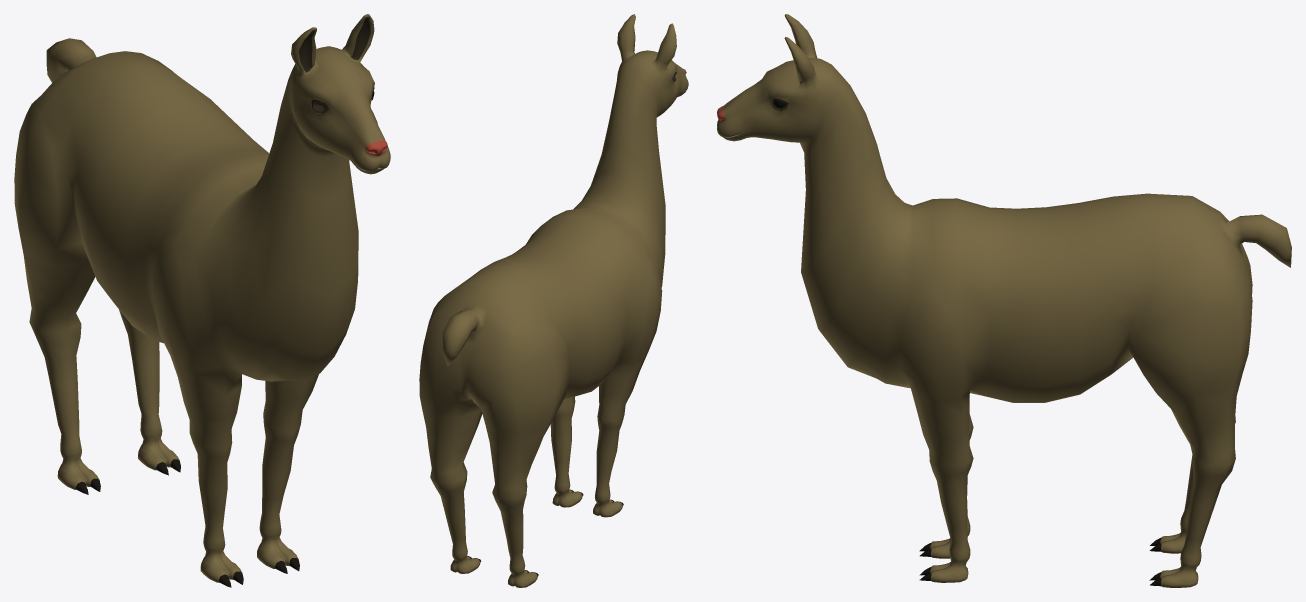
File: llama.obj
The picture shows the model from 3 angles, left to right: view 1: azimuth 30°, elevation 25°; view 2: azimuth 150°, elevation 25°; view 3: azimuth 270°, elevation 25°; orthographic projection. The views are drawn at different scales.
Visible parts, largest first — view 1: llama; view 2: llama; view 3: llama.
Part boxes in pixels (box(x1,y1,x2,y2)): llama: box(14, 14, 390, 587); llama: box(419, 14, 688, 587); llama: box(717, 14, 1291, 587).
Bounding box in the file's own units: 0.5862 × 1.85 × 1.79.
